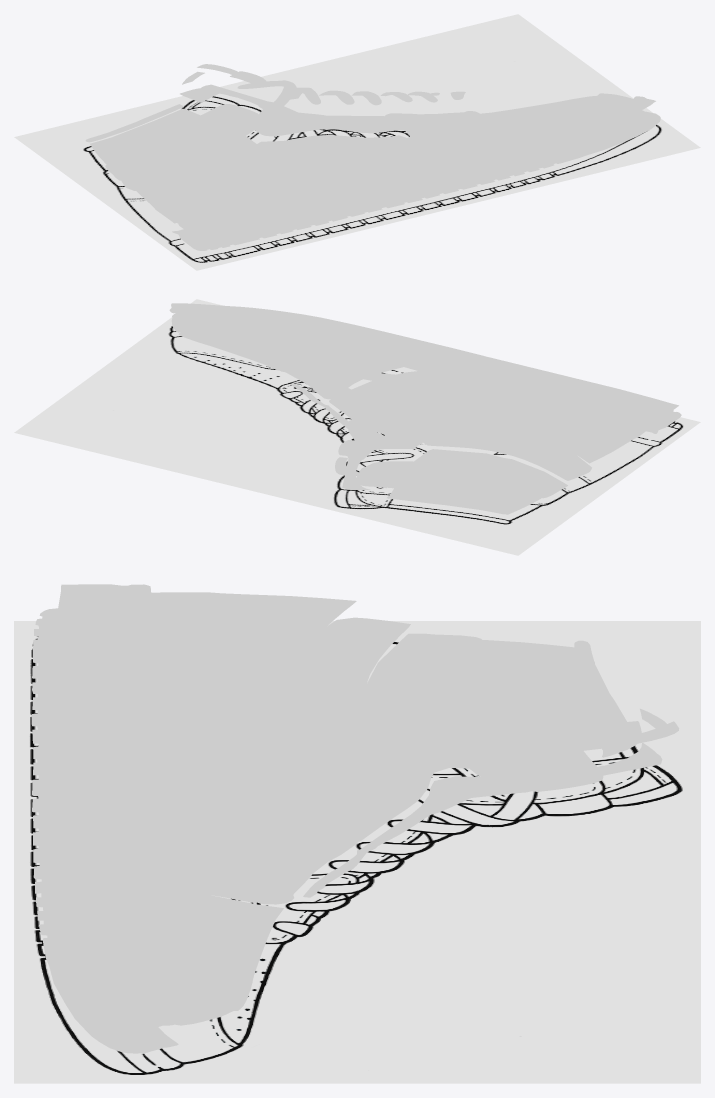
The model's file is Nike X Travis Scott Jordan 1.FBX.
3 views of the same model, one above another, from view 1: azimuth 30°, elevation 25°; view 2: azimuth 150°, elevation 25°; view 3: azimuth 270°, elevation 25° (orthographic). The views are drawn at different scales.
Visible parts, largest first — view 1: Plane001, Line004, Line001, Line003, Line005, Line012, Line015, Line002, Line008, Line013, Line006, Line026 (+3 smaller); view 2: Plane001, Line004, Line003, Line005, Line012, Line015, Line002, Line013, Line006, Line008, Line026, Line001 (+3 smaller); view 3: Plane001, Line004, Line003, Line012, Line005, Line001, Line015, Line002, Line013, Line006, Line026, Line008 (+4 smaller).
Part boxes in pixels (x1,y1,x2,y2): Plane001: [14, 14, 700, 270]; Line004: [171, 96, 655, 235]; Line001: [172, 110, 660, 250]; Line003: [118, 135, 415, 190]; Line005: [105, 104, 258, 180]; Line012: [215, 118, 470, 202]; Line015: [467, 93, 632, 152]; Line002: [126, 176, 237, 223]; Line008: [180, 88, 403, 136]; Line013: [384, 111, 481, 164]; Line006: [90, 108, 256, 164]; Line026: [237, 80, 465, 109]; Plane001: [14, 299, 700, 555]; Line004: [169, 303, 678, 422]; Line003: [352, 370, 591, 480]; Line005: [357, 456, 567, 498]; Line012: [295, 366, 583, 432]; Line015: [171, 314, 379, 362]; Line002: [538, 400, 656, 463]; Line013: [278, 349, 425, 399]; Line006: [390, 449, 541, 514]; Line008: [329, 388, 429, 488]; Line026: [281, 351, 412, 439]; Line001: [172, 312, 681, 433]; Plane001: [14, 621, 700, 1083]; Line004: [53, 584, 181, 1029]; Line003: [127, 617, 410, 836]; Line012: [135, 649, 330, 892]; Line005: [366, 633, 603, 791]; Line001: [31, 608, 178, 1053]; Line015: [122, 855, 256, 1025]; Line002: [145, 592, 356, 665]; Line013: [122, 807, 357, 904]; Line006: [370, 640, 610, 750]; Line026: [274, 709, 535, 862]; Line008: [292, 721, 641, 841].
Size of the model in its own units: 247 by 18.45 by 155.
